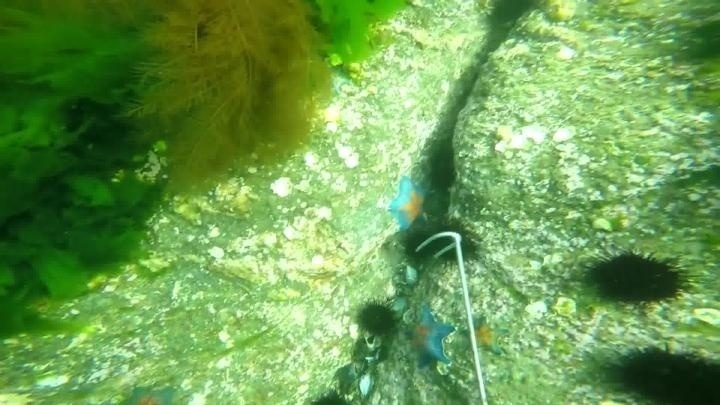echinus: (605, 343, 718, 403), (584, 248, 692, 307), (423, 138, 460, 195), (353, 297, 400, 339), (437, 222, 482, 264), (482, 1, 540, 26), (407, 229, 436, 256)
starfish: (403, 305, 457, 370), (385, 175, 434, 234), (470, 316, 509, 359), (124, 381, 178, 403)
